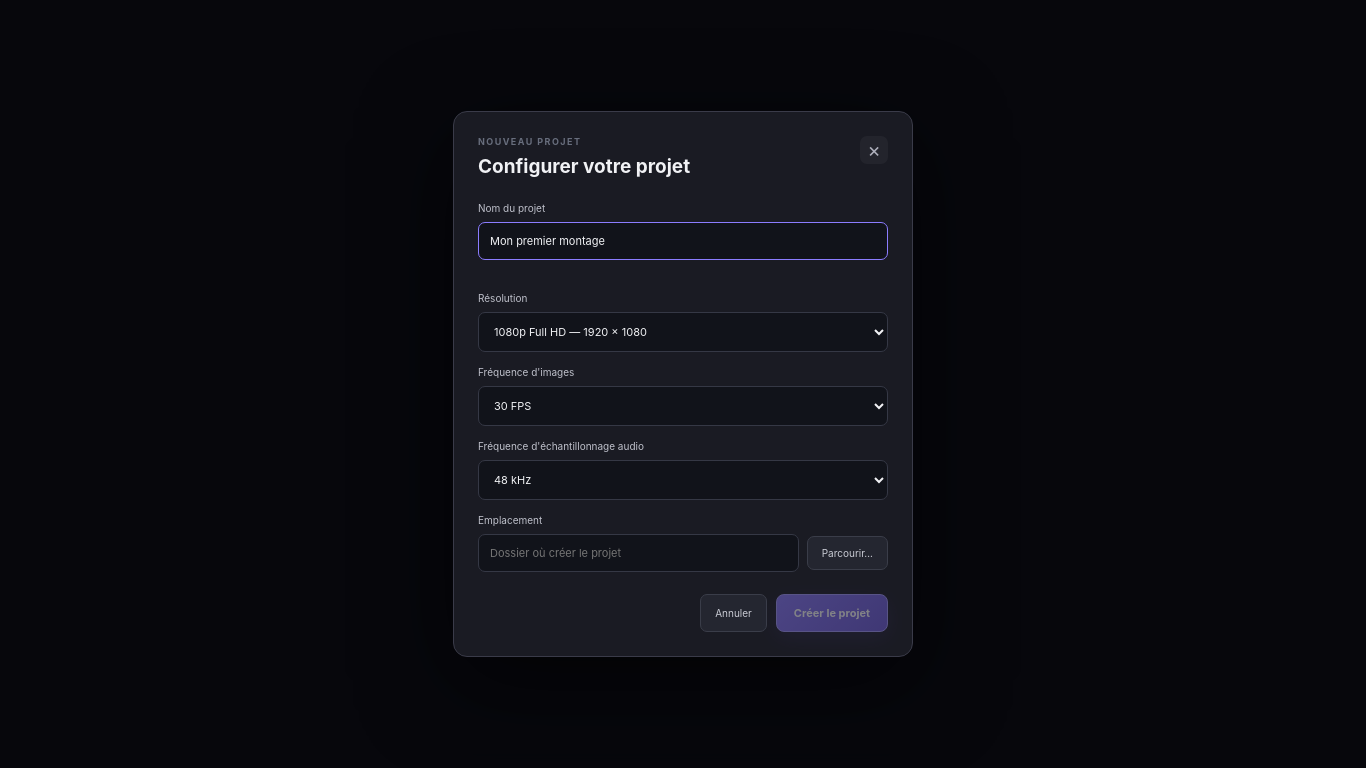
Test: CreateProjectDialog › remplit l'emplacement depuis le sélecteur natif
Step 1. Click the button "Parcourir…" → (847, 553), box [807,536,888,570]
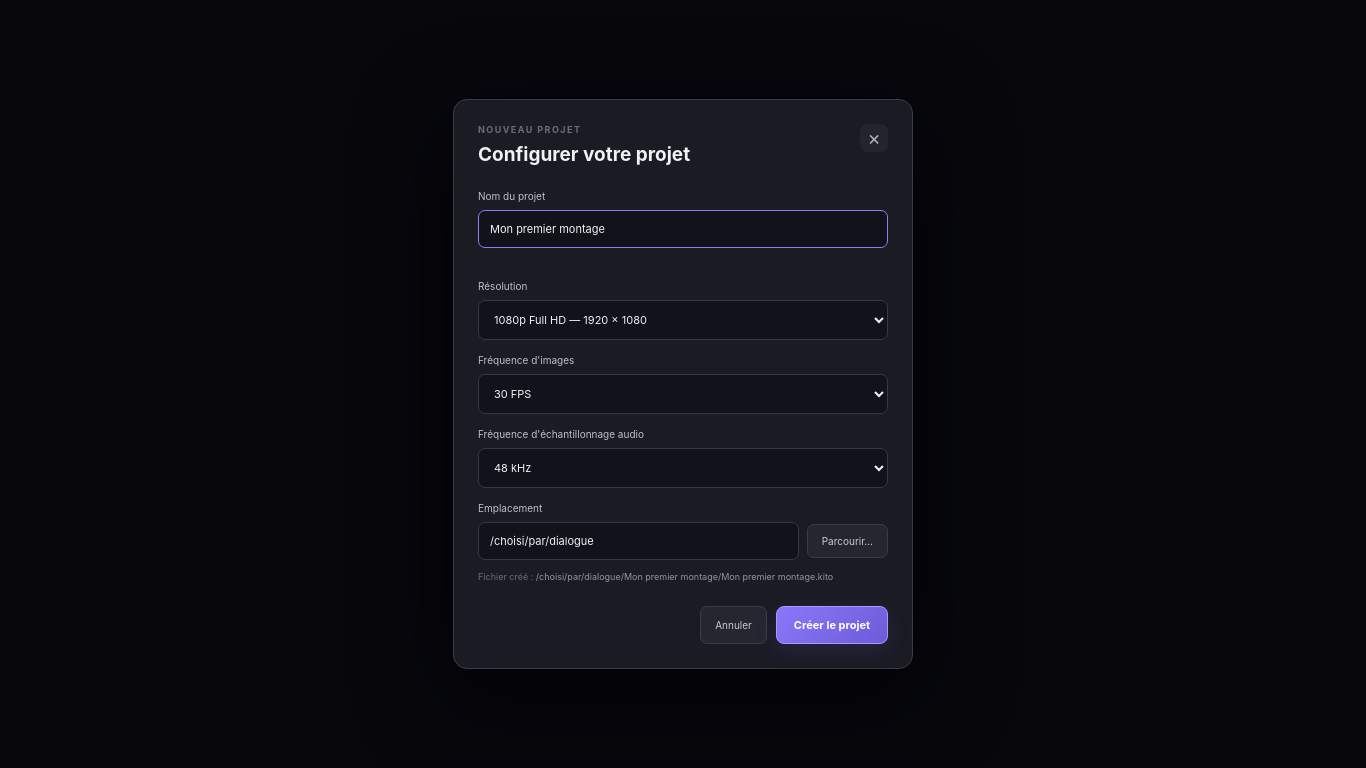
Check: the field named "Emplacement du projet" holds "/choisi/par/dialogue", box [478,522,799,560]
